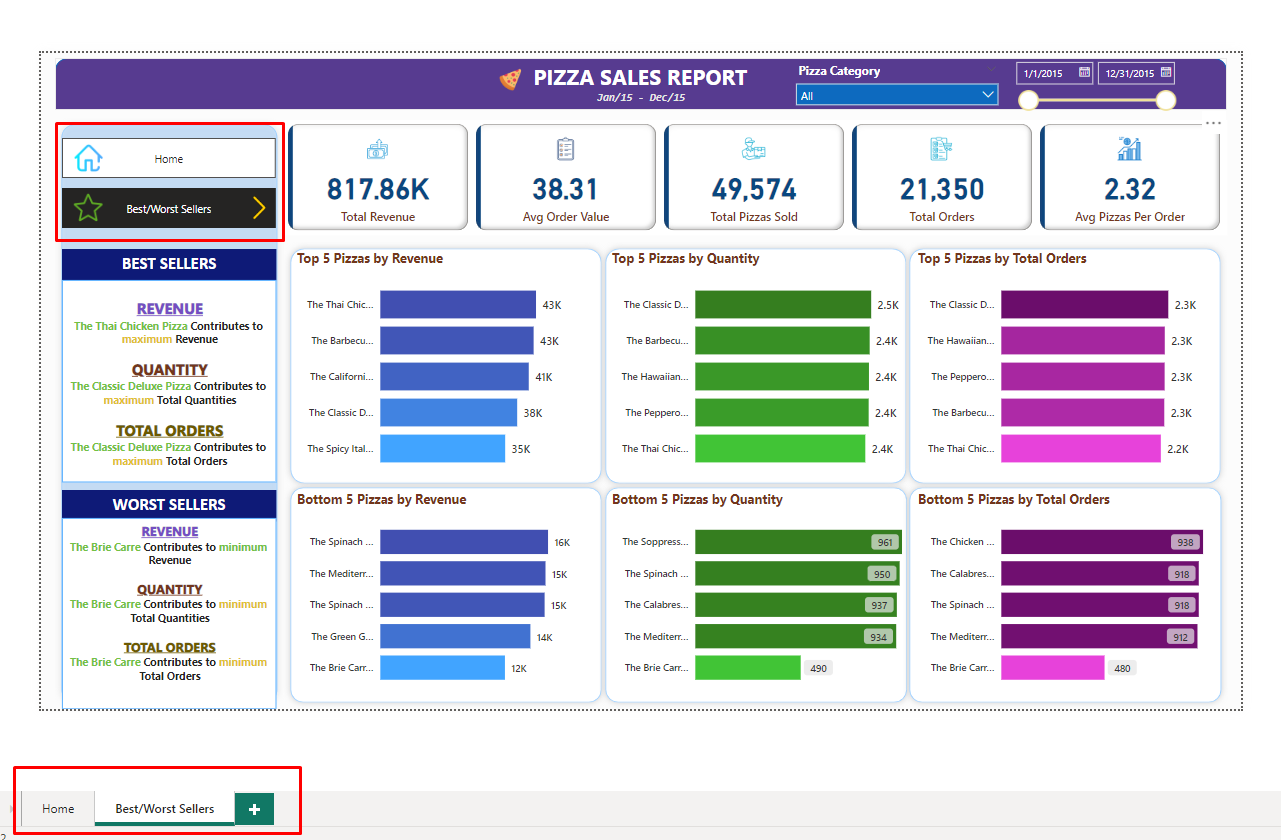

The page's visual inventory and layout, read from the dashboard file:
{"tool":"powerbi","page":{"name":"Best/Worst Sellers","canvas":[1500,820],"ordinal":1},"visuals":[{"type":"cardVisual","fields":{"Data":["pizza_sales.Total Revenue","pizza_sales.Avg Order Value","pizza_sales.Total Pizzas Sold","pizza_sales.Total Orders","pizza_sales.Avg Pizzas Per Order"]},"box":[303.8,83.8,1178.8,143.8],"z":0},{"type":"shape","box":[17.5,6.2,1465,65],"z":1000},{"type":"textbox","box":[605,6.2,288.8,53.8],"z":2000},{"type":"textbox","box":[681.2,41.2,137.5,40],"z":3000},{"type":"image","box":[567.5,12.5,37.5,41.2],"z":4000},{"type":"shape","box":[304,236,405,310],"z":5000},{"type":"shape","box":[17.5,81.2,286.2,738.8],"z":6000},{"type":"textbox","box":[26.2,245,267.5,38.8],"z":7000},{"type":"textbox","box":[26.2,283.8,267.5,252.5],"z":8000},{"type":"textbox","box":[26.2,546.2,267.5,38.8],"z":9000},{"type":"textbox","box":[26.2,581.2,267.5,238.8],"z":10000},{"type":"slicer","fields":{"Values":["pizza_sales.pizza_category"]},"box":[933.8,6.2,272.5,65],"z":11000},{"type":"slicer","fields":{"Values":["pizza_sales.order_date"]},"box":[1206.2,1.2,221.2,75],"z":12000},{"type":"shape","box":[697,236,392,310],"z":13000},{"type":"shape","box":[1078,236,405,310],"z":14000},{"type":"shape","box":[303.8,535,405,285],"z":15000},{"type":"shape","box":[697.5,535,392.5,285],"z":16000},{"type":"shape","box":[1077.5,535,406.2,285],"z":17000},{"type":"barChart","title":"Top 5 Pizzas by Revenue","fields":{"Category":["pizza_sales.pizza_name"],"Y":["pizza_sales.Total Revenue"]},"box":[315,245,382.5,291.2],"z":18000},{"type":"barChart","title":"Bottom 5 Pizzas by Revenue","fields":{"Category":["pizza_sales.pizza_name"],"Y":["pizza_sales.Total Revenue"]},"box":[315,546.2,382.5,258.8],"z":19000},{"type":"barChart","title":"Top 5 Pizzas by Quantity","fields":{"Category":["pizza_sales.pizza_name"],"Y":["pizza_sales.Total Pizzas Sold"]},"box":[708.8,245,382.5,291.2],"z":20000},{"type":"barChart","title":"Bottom 5 Pizzas by Quantity","fields":{"Category":["pizza_sales.pizza_name"],"Y":["pizza_sales.Total Pizzas Sold"]},"box":[708.8,546.2,382.5,258.8],"z":21000},{"type":"barChart","title":"Top 5 Pizzas by Total Orders","fields":{"Category":["pizza_sales.pizza_name"],"Y":["pizza_sales.Total Orders"]},"box":[1091.2,245,382.5,291.2],"z":22000},{"type":"barChart","title":"Bottom 5 Pizzas by Total Orders","fields":{"Category":["pizza_sales.pizza_name"],"Y":["pizza_sales.Total Orders"]},"box":[1091.2,546.2,382.5,258.8],"z":23000},{"type":"pageNavigator","box":[26.2,168.8,267.5,50],"z":24000},{"type":"pageNavigator","box":[26.2,106.2,267.5,50],"z":25000},{"type":"image","box":[252.5,173.8,41.2,38.8],"z":26000},{"type":"image","box":[35,108.8,47.5,45],"z":27000},{"type":"image","box":[35,170,47.5,46.2],"z":28000}]}

Visuals, with their boxes on the page's 1500x820 design canvas (x1, y1, x2, y2). These are canvas units, not pixel positions in the 1281x840 screenshot, which may show the page scaled, cropped or inside an application window:
cardVisual - pizza_sales.Total Revenue x pizza_sales.Avg Order Value: [x1=304, y1=84, x2=1483, y2=228]
shape: [x1=18, y1=6, x2=1482, y2=71]
textbox: [x1=605, y1=6, x2=894, y2=60]
textbox: [x1=681, y1=41, x2=819, y2=81]
image: [x1=568, y1=12, x2=605, y2=54]
shape: [x1=304, y1=236, x2=709, y2=546]
shape: [x1=18, y1=81, x2=304, y2=820]
textbox: [x1=26, y1=245, x2=294, y2=284]
textbox: [x1=26, y1=284, x2=294, y2=536]
textbox: [x1=26, y1=546, x2=294, y2=585]
textbox: [x1=26, y1=581, x2=294, y2=820]
slicer - pizza_sales.pizza_category: [x1=934, y1=6, x2=1206, y2=71]
slicer - pizza_sales.order_date: [x1=1206, y1=1, x2=1427, y2=76]
shape: [x1=697, y1=236, x2=1089, y2=546]
shape: [x1=1078, y1=236, x2=1483, y2=546]
shape: [x1=304, y1=535, x2=709, y2=820]
shape: [x1=698, y1=535, x2=1090, y2=820]
shape: [x1=1078, y1=535, x2=1484, y2=820]
"Top 5 Pizzas by Revenue" barChart: [x1=315, y1=245, x2=698, y2=536]
"Bottom 5 Pizzas by Revenue" barChart: [x1=315, y1=546, x2=698, y2=805]
"Top 5 Pizzas by Quantity" barChart: [x1=709, y1=245, x2=1091, y2=536]
"Bottom 5 Pizzas by Quantity" barChart: [x1=709, y1=546, x2=1091, y2=805]
"Top 5 Pizzas by Total Orders" barChart: [x1=1091, y1=245, x2=1474, y2=536]
"Bottom 5 Pizzas by Total Orders" barChart: [x1=1091, y1=546, x2=1474, y2=805]
pageNavigator: [x1=26, y1=169, x2=294, y2=219]
pageNavigator: [x1=26, y1=106, x2=294, y2=156]
image: [x1=252, y1=174, x2=294, y2=213]
image: [x1=35, y1=109, x2=82, y2=154]
image: [x1=35, y1=170, x2=82, y2=216]
